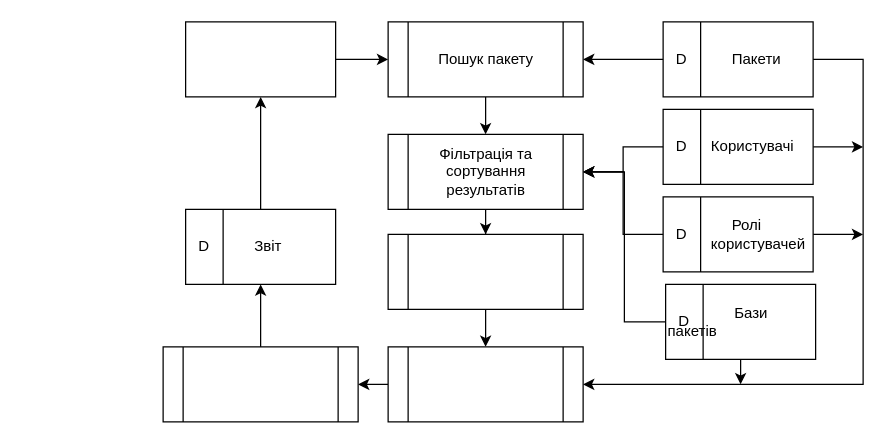
The diagram is 895 pixels wide and 444 high, and some of its shapes have lost their labels. The shapes that lost their labels are listed below. From the top down, each one's centre as x and y in pixels, then its label:
the point at 260,59: Користувач
the point at 485,271: Вибір пакету
the point at 260,384: Формування звіту та завантаження
the point at 485,384: Перегляд інформацї про пакет
